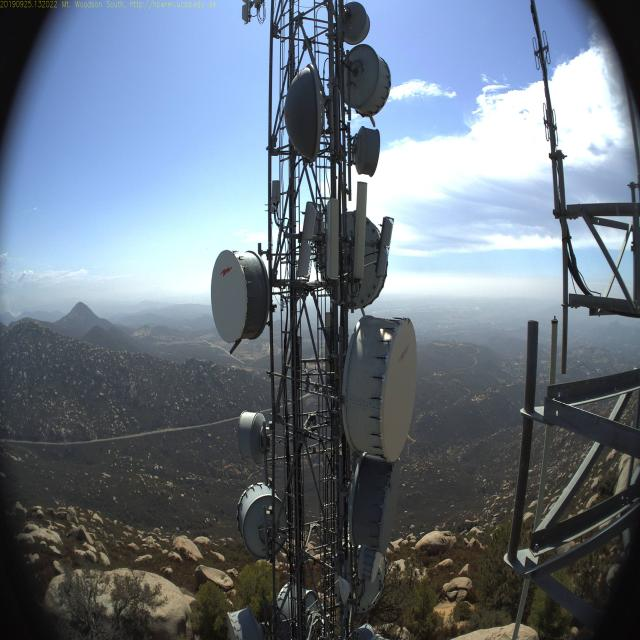smoke: (1, 290, 22, 320)
